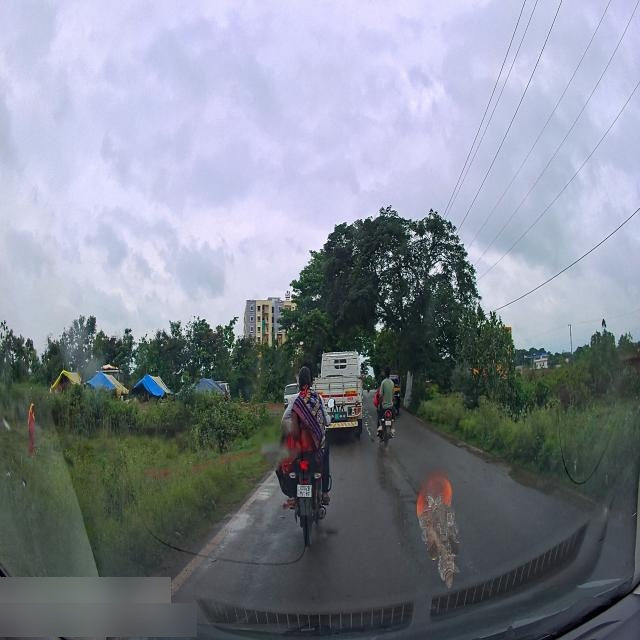pothole: (509, 465, 555, 496), (365, 416, 373, 439)
